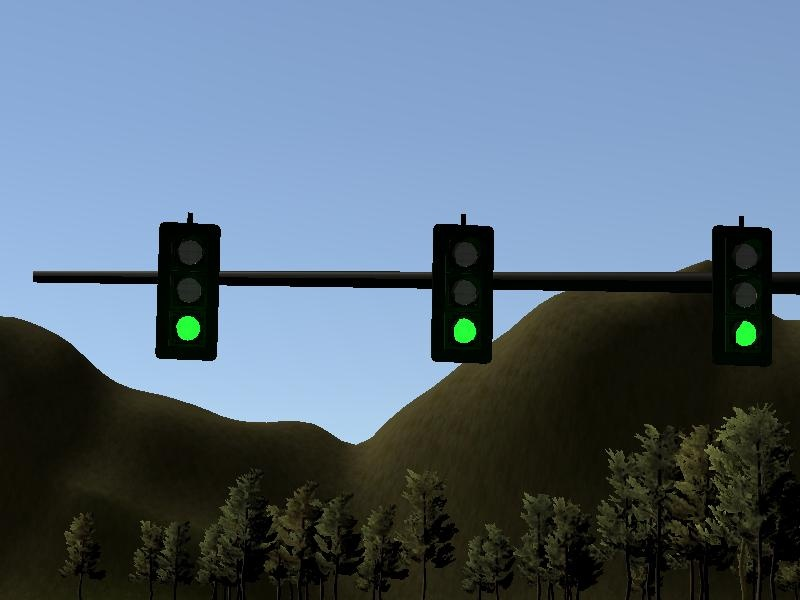GREEN: (156, 221, 218, 362), (431, 224, 493, 365), (711, 224, 773, 365)
